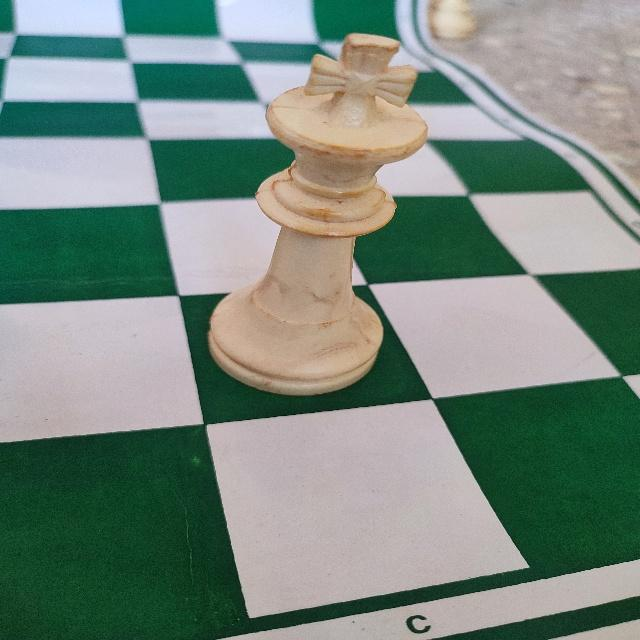King: (202, 30, 430, 401)
